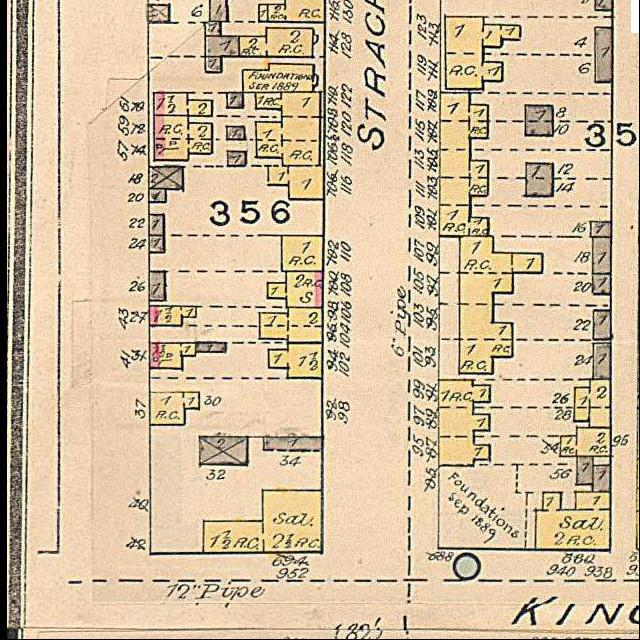building-footprints: (460, 237, 543, 374), (204, 491, 323, 554), (440, 93, 489, 237), (445, 18, 521, 89), (256, 93, 321, 166), (439, 380, 491, 466), (536, 492, 611, 551), (155, 116, 213, 161), (260, 308, 323, 344), (243, 64, 318, 93), (240, 29, 313, 58), (268, 271, 323, 308), (269, 166, 325, 200), (269, 344, 323, 379), (575, 380, 611, 429), (150, 393, 200, 425), (282, 236, 324, 272), (561, 428, 611, 457), (154, 93, 213, 116), (200, 437, 248, 465), (268, 1, 326, 23), (150, 343, 196, 369), (595, 27, 613, 83), (150, 306, 196, 326), (527, 164, 553, 197), (264, 437, 323, 451), (526, 106, 553, 136), (149, 167, 184, 190), (593, 237, 612, 274), (206, 37, 240, 57), (594, 343, 611, 380), (594, 311, 612, 340), (577, 456, 594, 485), (594, 465, 611, 493), (150, 272, 165, 301), (148, 5, 170, 23), (210, 0, 228, 22), (593, 274, 611, 295), (591, 222, 612, 238), (150, 215, 165, 236), (196, 343, 227, 353), (149, 235, 165, 253), (228, 152, 247, 167), (206, 57, 222, 73), (227, 93, 243, 109), (149, 189, 167, 203), (205, 22, 221, 37), (227, 127, 245, 140), (596, 1, 613, 11), (259, 5, 268, 22), (313, 34, 318, 45)
